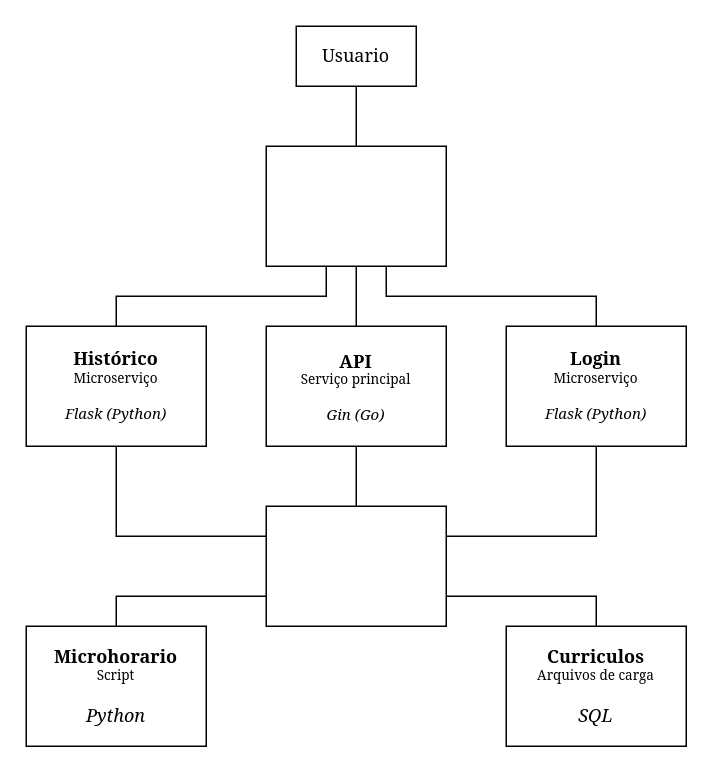
This 713x773 diagram has some shape labels left out. The centre of each missing label's shape, as x and y in pixels:
Banco de dados PostgreSQL: the point at 355,565
Front Serviço principal Svelte (JS): the point at 355,205
